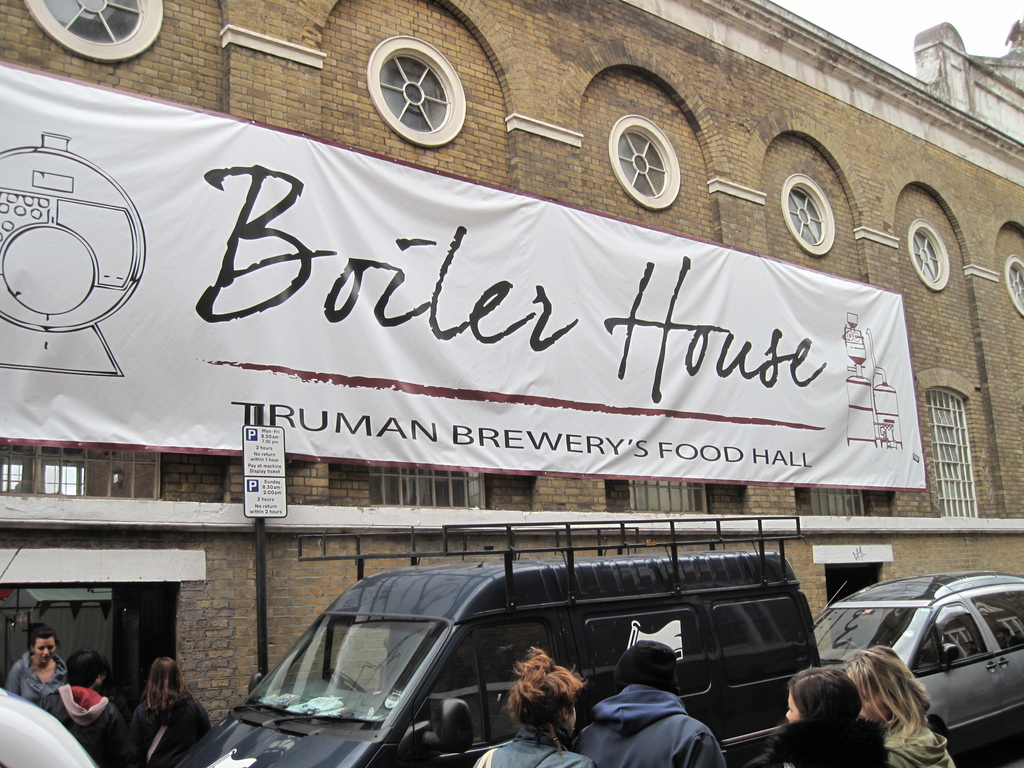Human-face: (854, 680, 893, 726), (783, 689, 803, 729), (33, 641, 60, 667), (570, 707, 578, 730)
